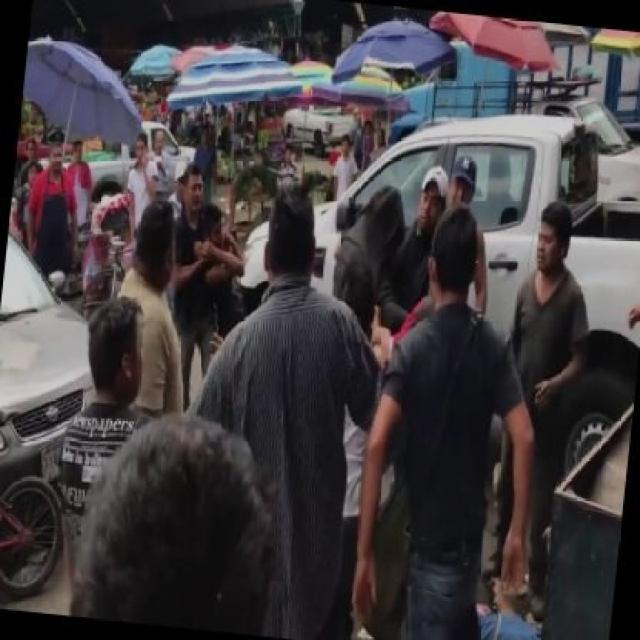non-fight: (323, 190, 555, 638), (176, 179, 392, 640), (18, 277, 182, 625), (15, 132, 88, 291)
